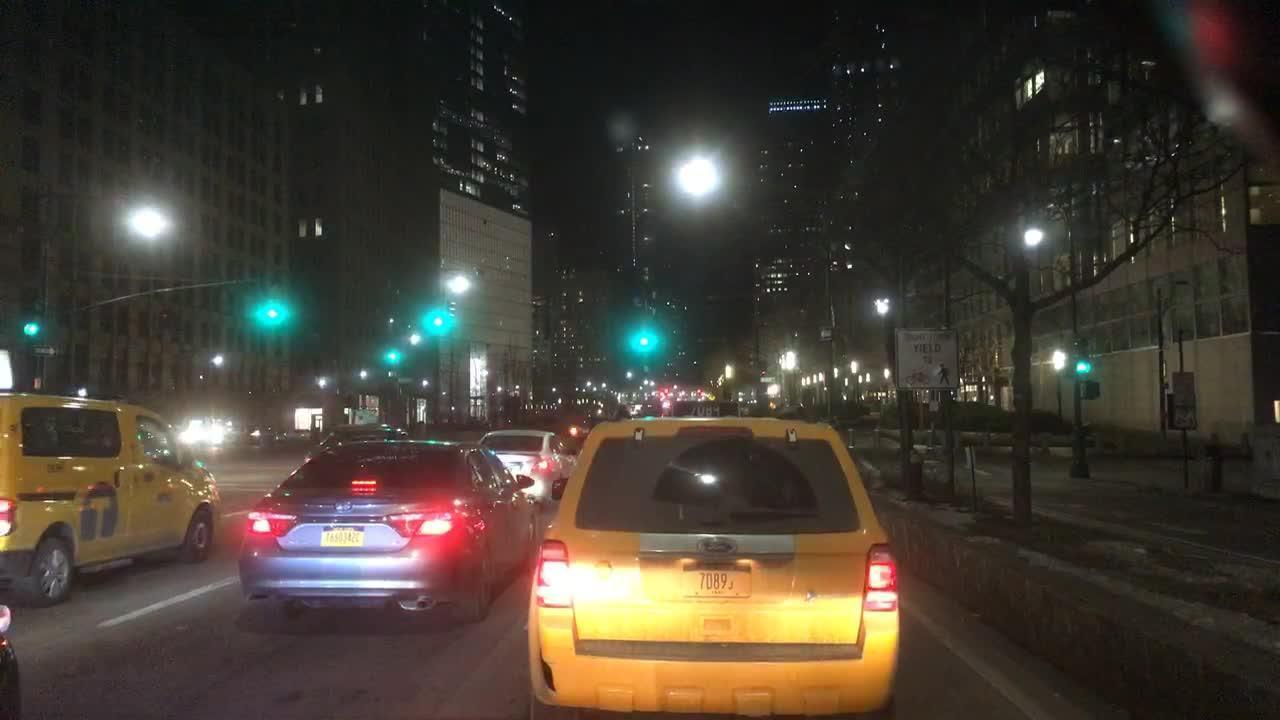ford: (702, 538, 736, 556)
